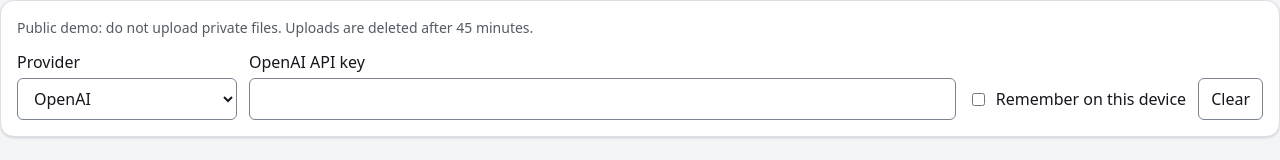
KeyPanel › asks for the provider’s API key for a key preset and a demo code for the demo preset
This screenshot has width=1280, height=160.
Expected: the password field labelled "OpenAI API key" is shown, [249,78,956,120]
Expected: the field labelled "Demo code" is not shown
Select "Synthetic" in the dropdown labelled "Provider" at (127, 99), box [17,78,237,120]
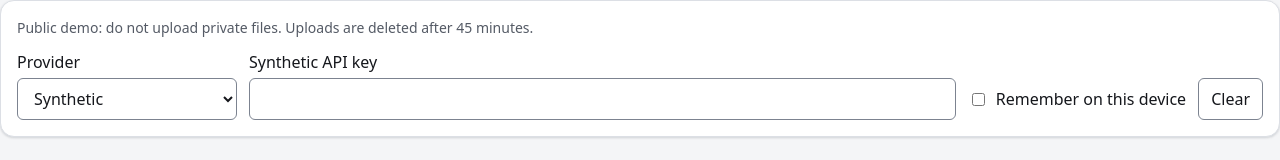
Expected: the password field labelled "Synthetic API key" is shown, [249,78,956,120]
Select "Demo code" in the dropdown labelled "Provider" at (127, 99), box [17,78,237,120]
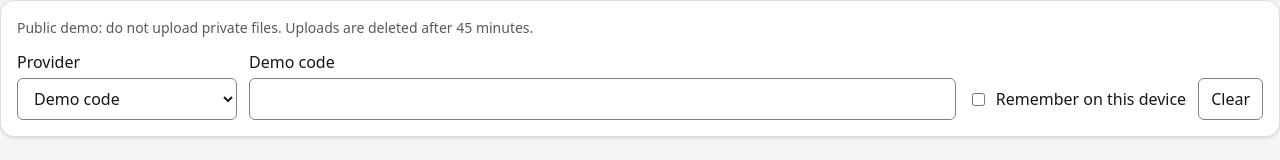
Expected: the password field labelled "Demo code" is shown, [249,78,956,120]
Now the label labelled "API key" is gone
